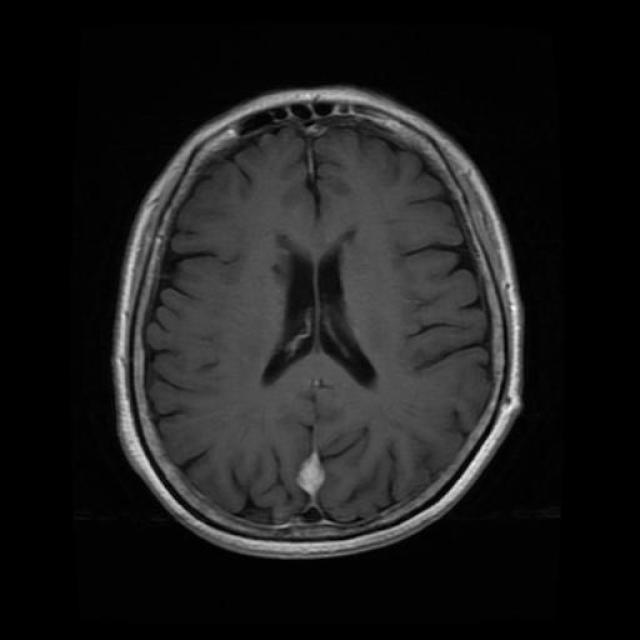meningioma: (295, 452, 326, 502)
